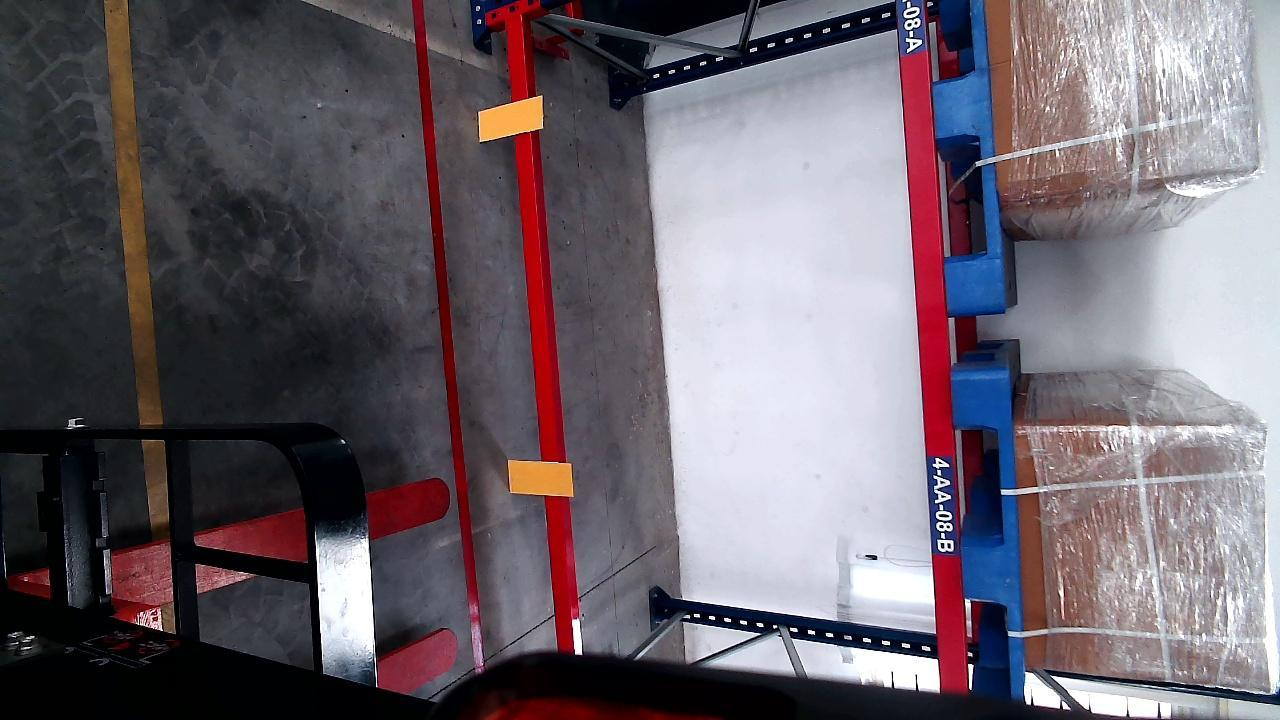red_line: (411, 1, 483, 683)
yellow_line: (104, 1, 169, 534)
